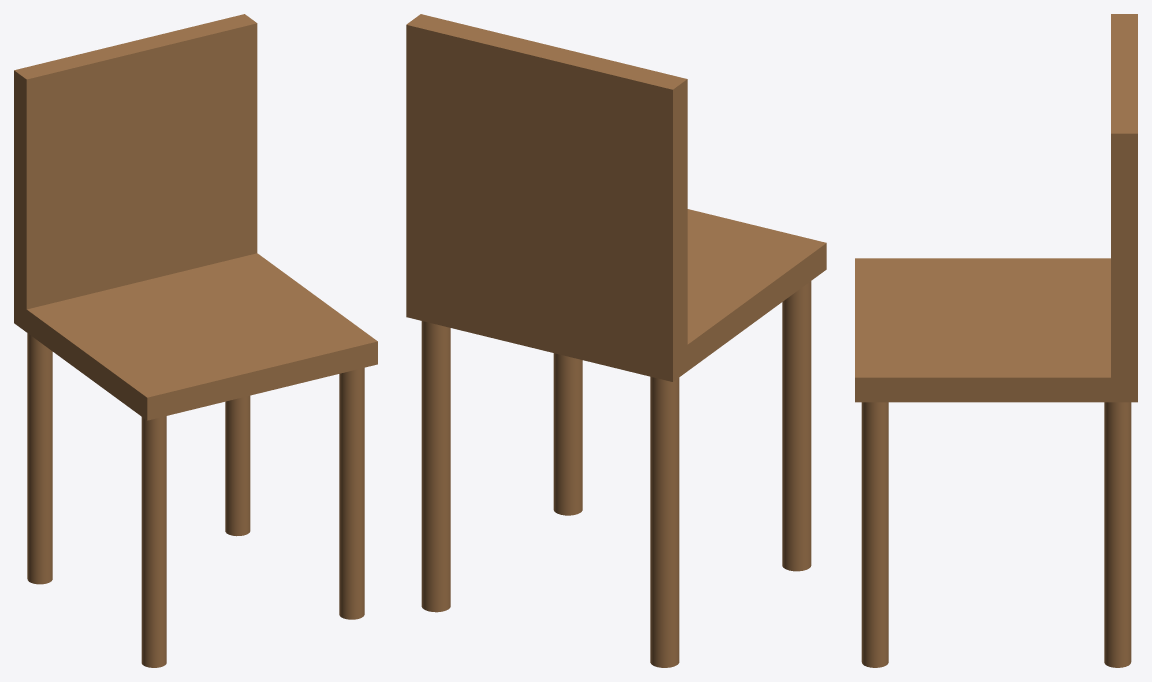
The model's file is dining-chair.gltf.
3 renders of one model, left to right at view 1: azimuth 30°, elevation 25°; view 2: azimuth 150°, elevation 25°; view 3: azimuth 270°, elevation 25°, orthographic. The views are drawn at different scales.
Size of the model in its own units: 0.42 by 0.88 by 0.42.
